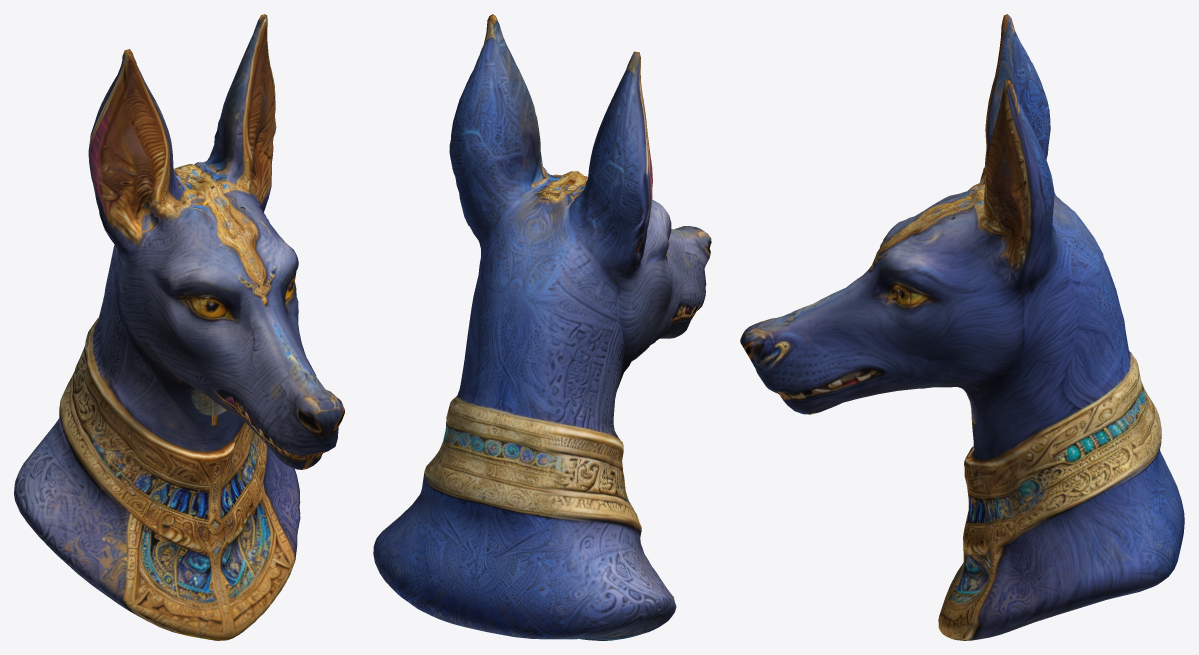
The model's file is anubis_4K_fantasy_t_0725181425_refine.fbx.
3 renders of one model, left to right at view 1: azimuth 30°, elevation 25°; view 2: azimuth 150°, elevation 25°; view 3: azimuth 270°, elevation 25°, orthographic. The views are drawn at different scales.
Visible parts, largest first — view 1: Mesh_0; view 2: Mesh_0; view 3: Mesh_0.
Part boxes in pixels (<box>): Mesh_0: <box>14,14,344,640</box>; Mesh_0: <box>373,14,711,640</box>; Mesh_0: <box>740,14,1184,640</box>.
Bounding box in the file's own units: 55.26 × 120 × 82.21.
Materials: 1 (1 with a texture image).
